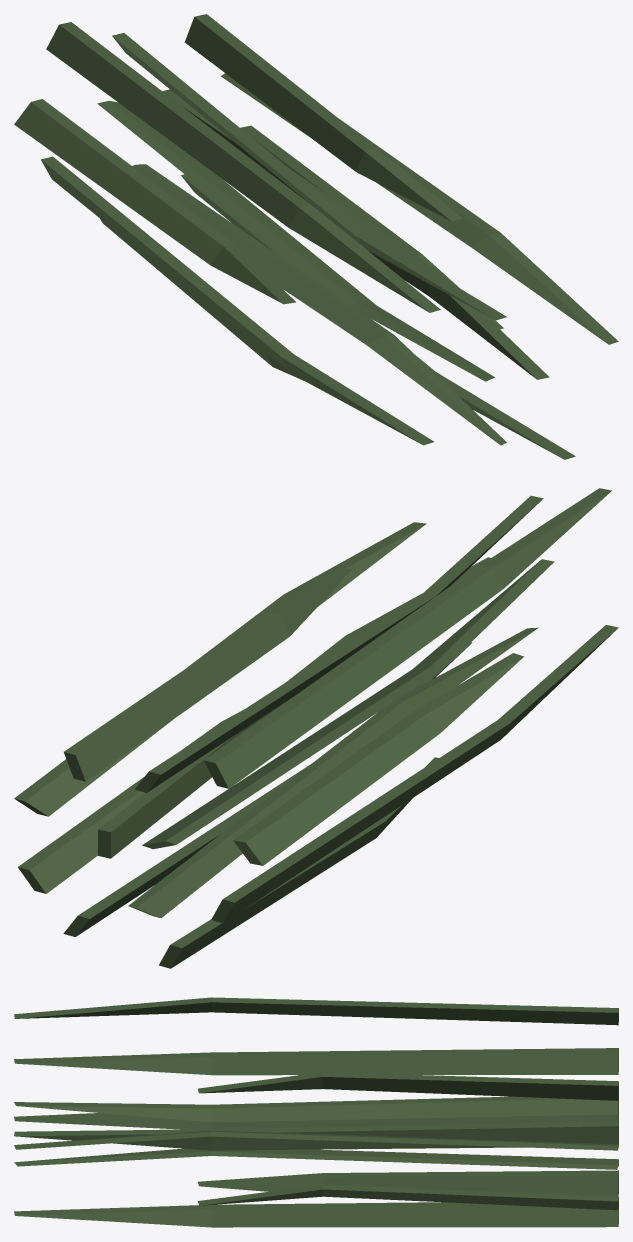
File: grass-tuft.obj
3 renders of one model, top to bottom at view 1: azimuth 30°, elevation 25°; view 2: azimuth 150°, elevation 25°; view 3: azimuth 270°, elevation 25°, orthographic. The views are drawn at different scales.
Visible parts, largest first — view 1: grass-tuft; view 2: grass-tuft; view 3: grass-tuft.
Boxes of the visible parts, <box> form: grass-tuft: <box>14,14,618,459</box>; grass-tuft: <box>14,488,618,968</box>; grass-tuft: <box>14,997,618,1227</box>.
Size of the model in its own units: 4.43 by 3.88 by 12.
